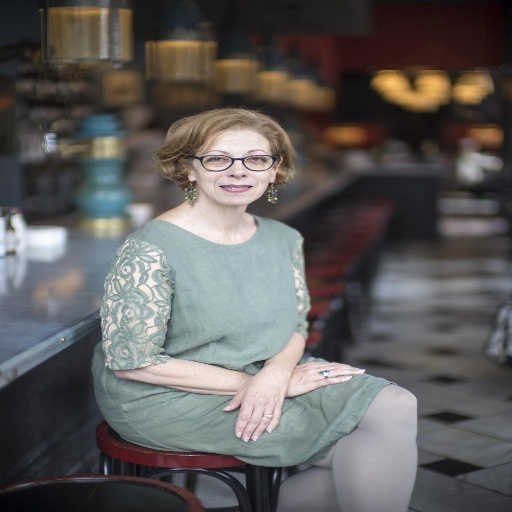hand: (223, 379, 282, 442), (285, 360, 366, 398)
